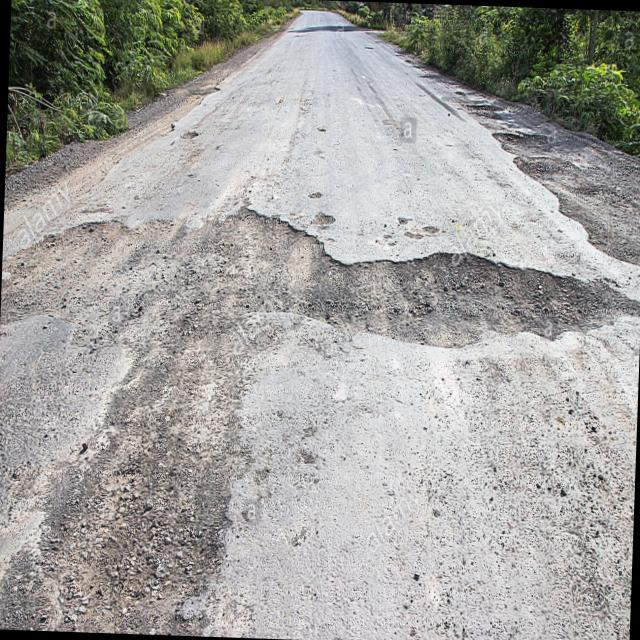Potholes: (0, 186, 595, 640)
